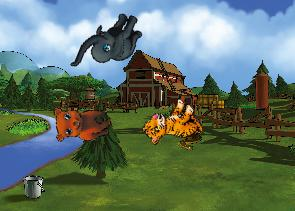bear: (48, 93, 115, 149)
elephant: (69, 0, 147, 85)
tiger: (138, 91, 208, 160)
